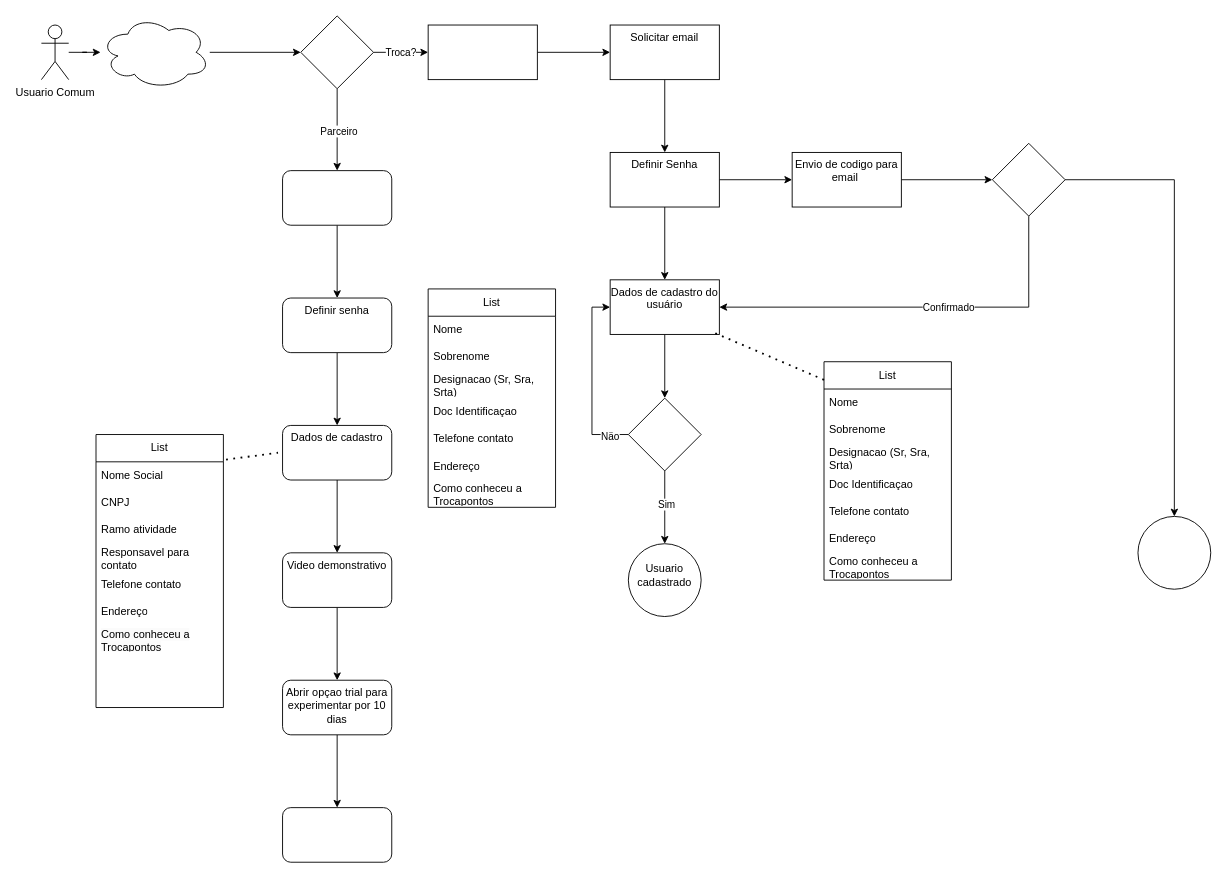
Image size: 1227x878. Some labels were removed from this diagram. The shapes that lost their labels are listed below. From the top down, each one's centre as x and y in pixels, then its label:
the point at 155,52: trocapontos.com
the point at 482,52: Cadastre, compre e troque! Simples assim!
the point at 337,197: Solicitar email (Office 365, Icloud, gmail, outro)
the point at 664,434: Finalizado?
the point at 1174,552: Erro
the point at 337,834: Opçóes cadastrar lista, upload excel, API
